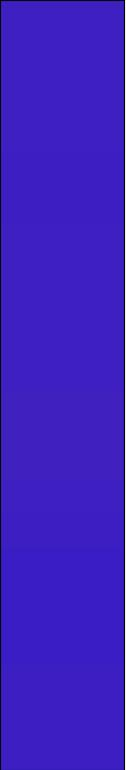safe: (13, 7, 118, 762)
